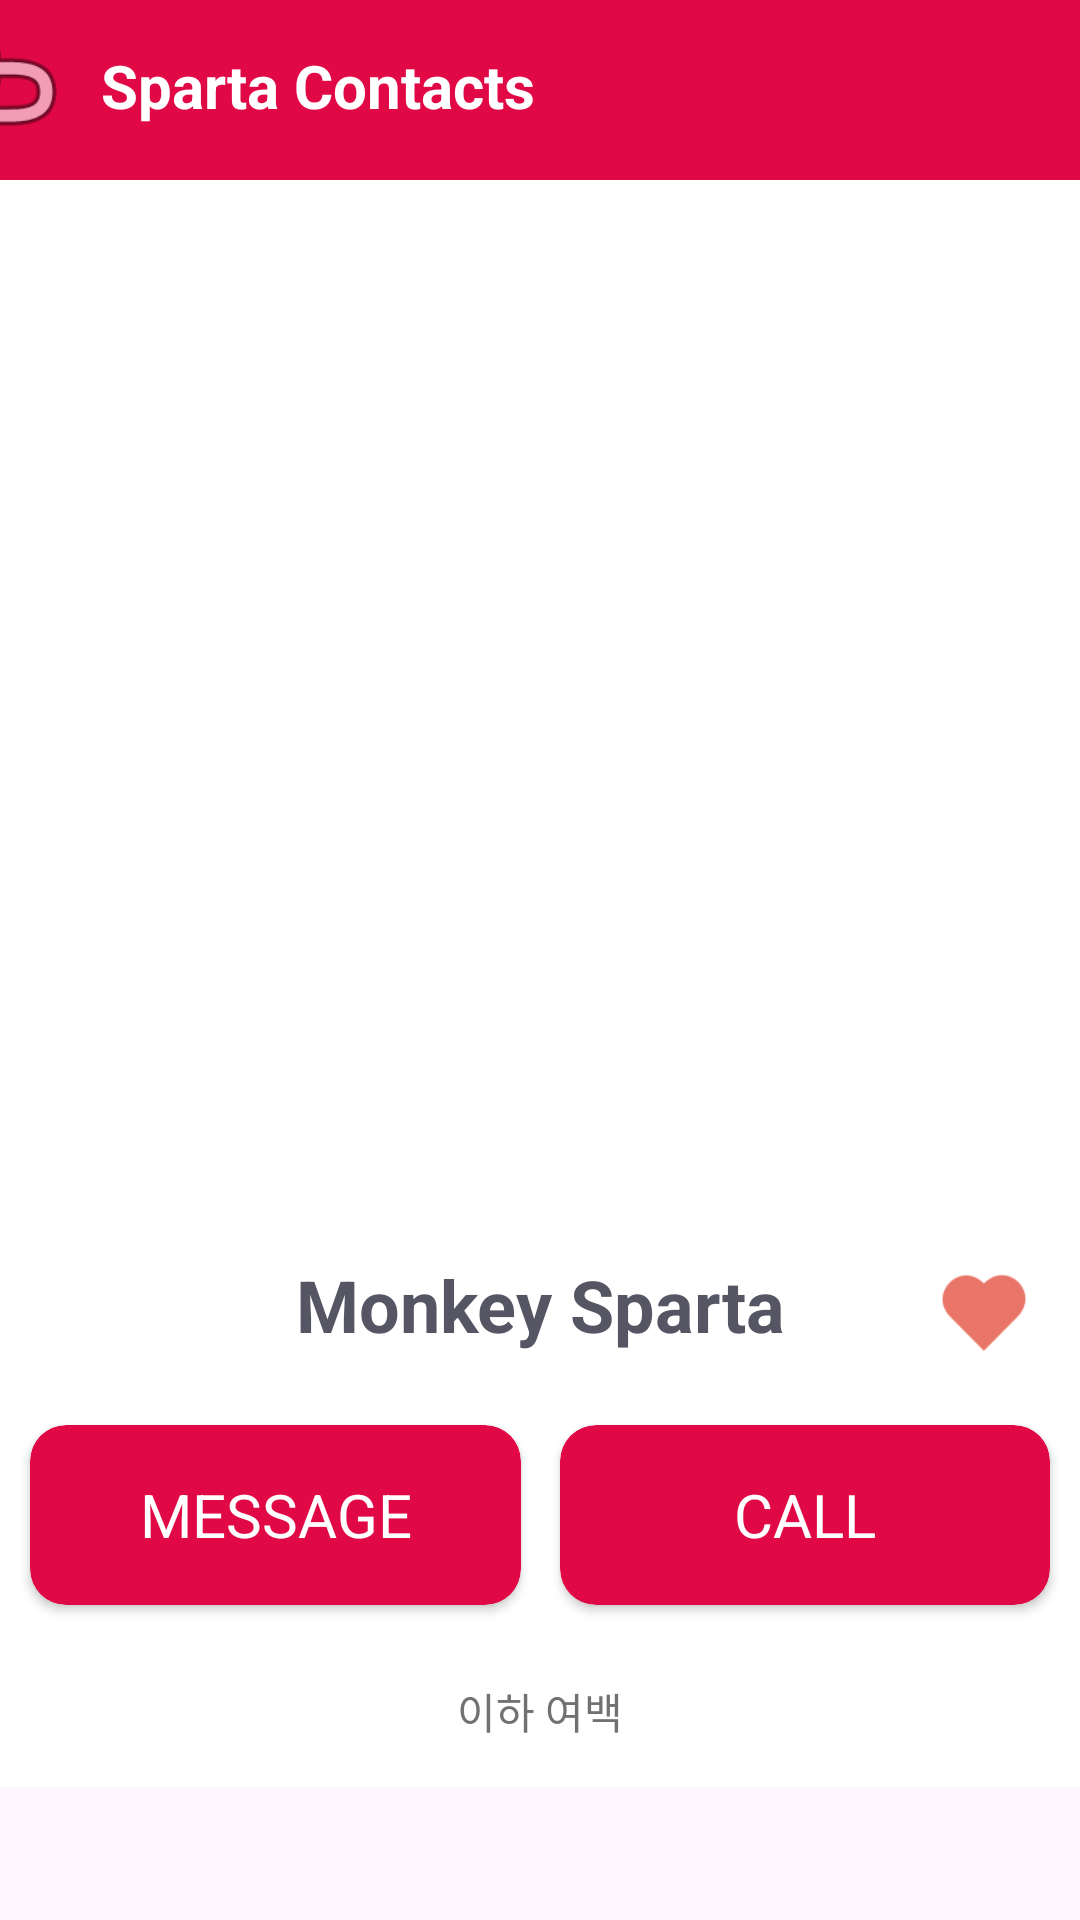

Where icons sit on this 1080x1920 app screen, as {"x1": x1, "y1": y1, "x2": x2, "y2": y2}:
heart: {"x1": 942, "y1": 1275, "x2": 1026, "y2": 1351}
